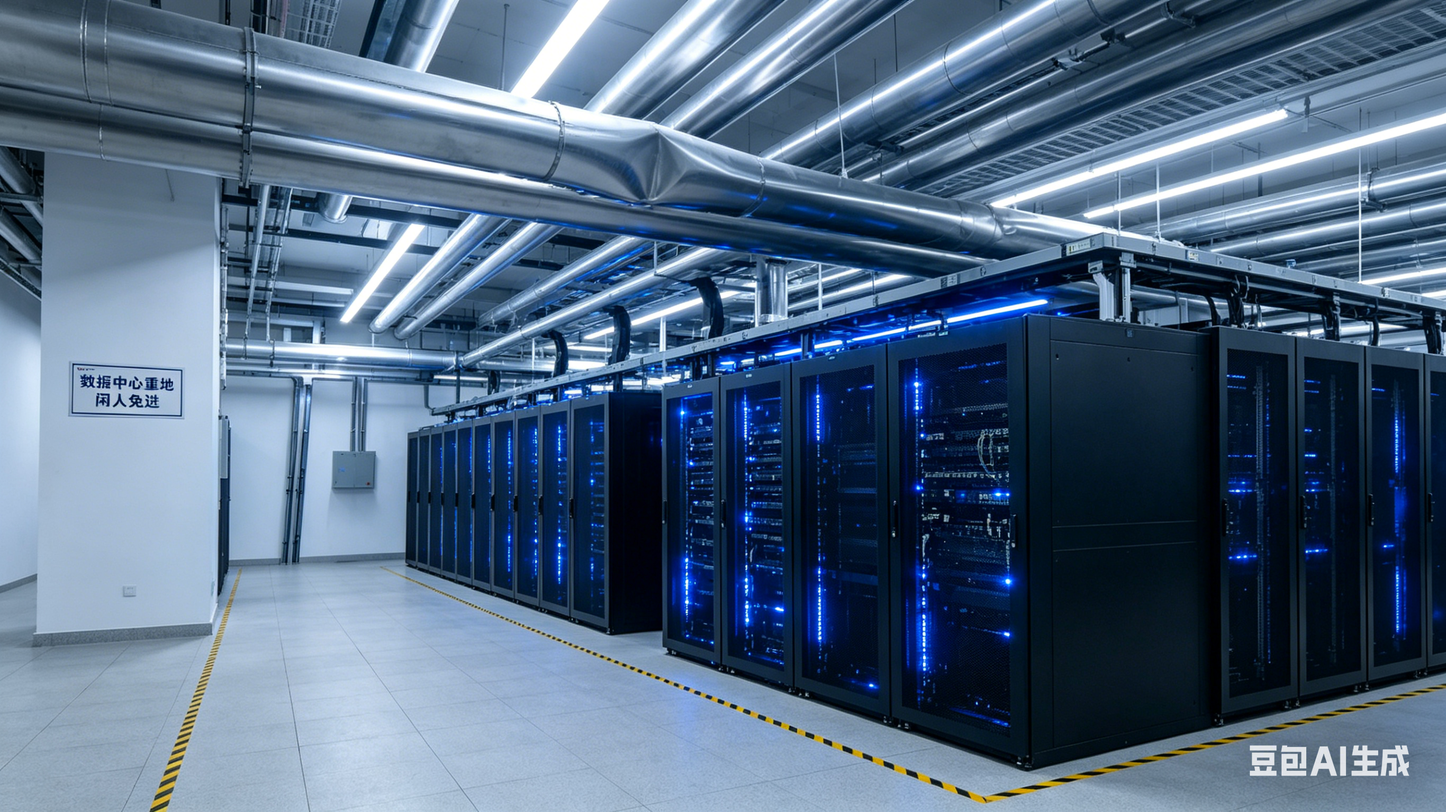Leakage: (603, 120, 701, 203)
